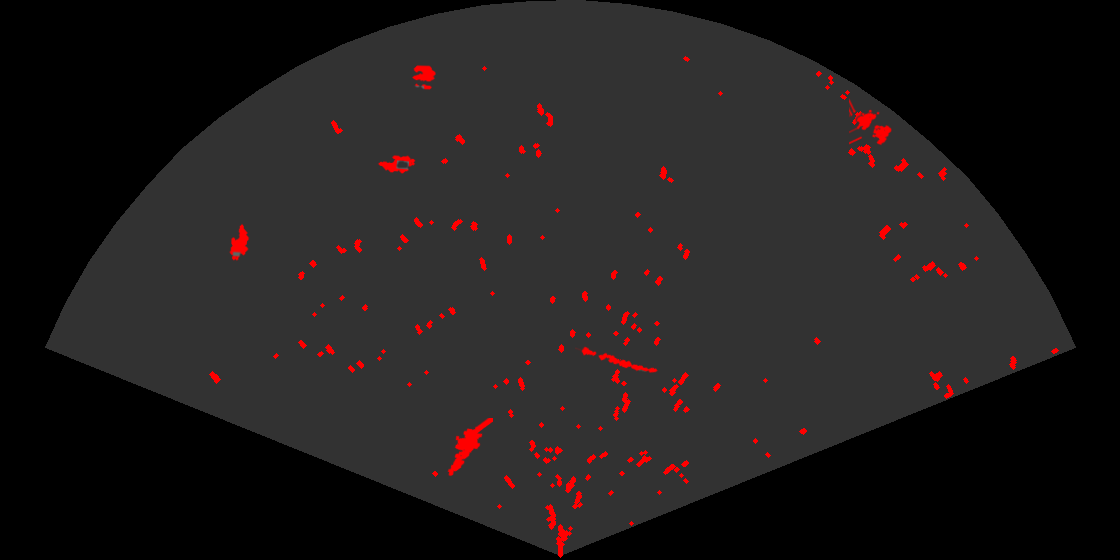AUV: (228, 222, 251, 262), (376, 154, 417, 175)
ball: (410, 64, 437, 91)
cage: (849, 97, 893, 147)
chain: (575, 345, 659, 375)
frogman: (446, 418, 493, 478)
